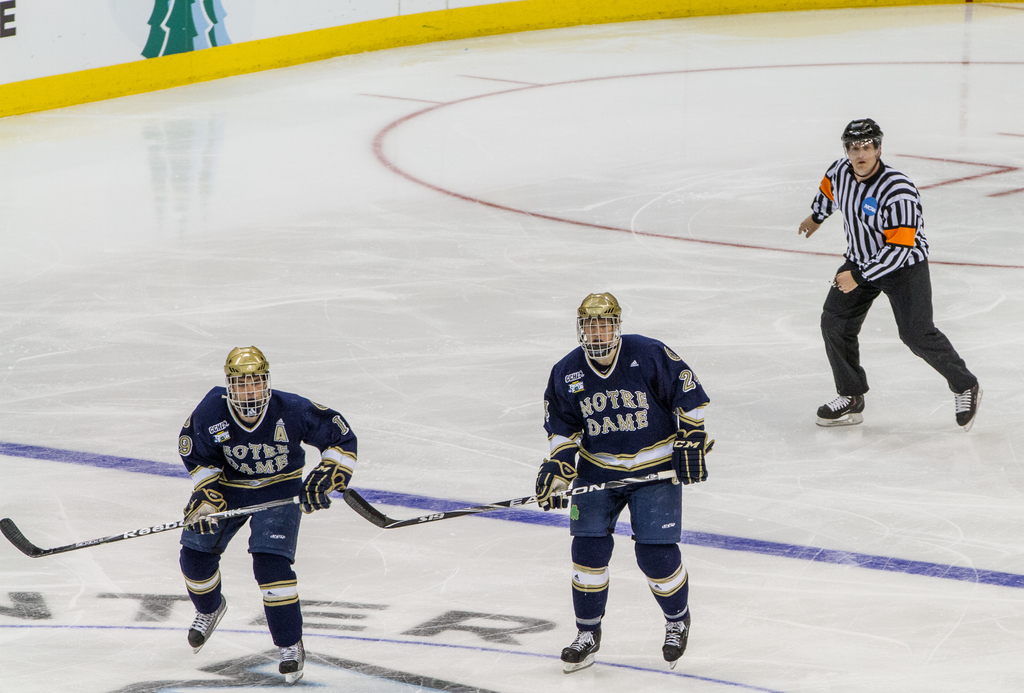Person: (536, 292, 711, 664), (179, 345, 357, 675), (798, 119, 978, 426)
